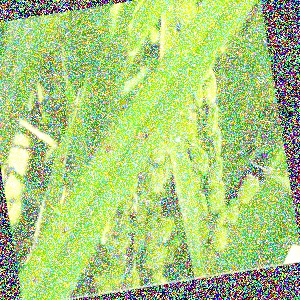Bacterial_Leaf_Blight: (135, 125, 155, 144), (101, 139, 119, 155), (56, 223, 73, 237), (26, 272, 43, 286), (57, 152, 69, 166)
